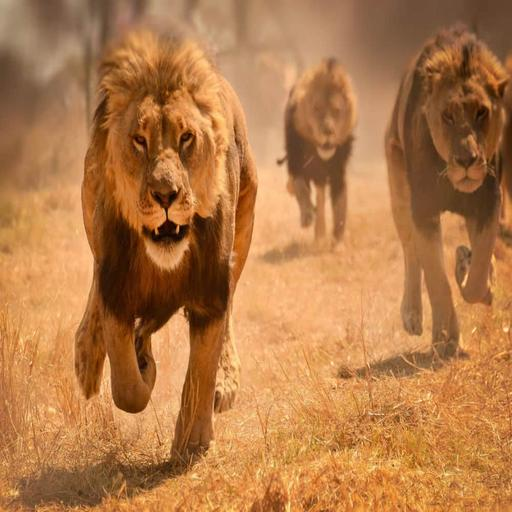Lion: (62, 32, 260, 468), (382, 23, 512, 383), (262, 58, 363, 255)
